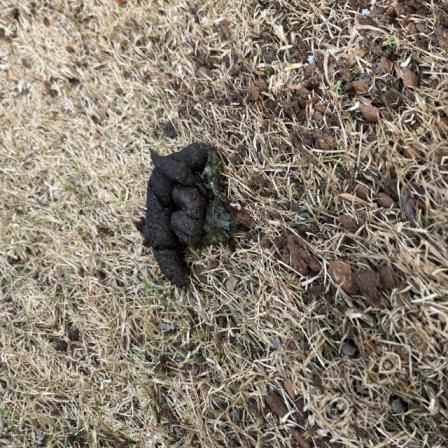dog-poop: (120, 135, 245, 275)
